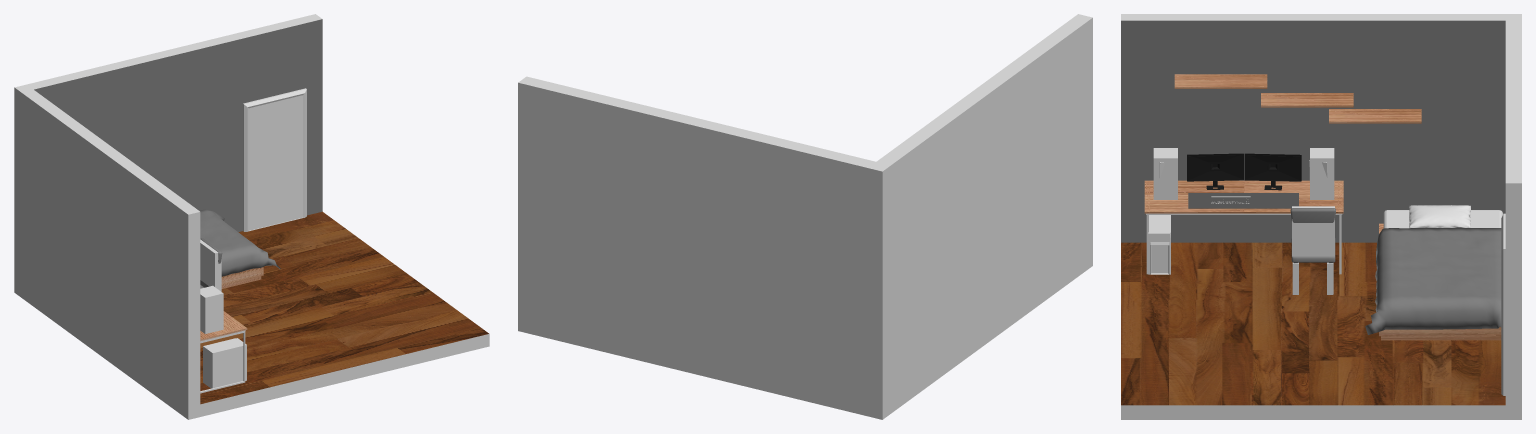
File: bedroom.glb
The picture shows the model from 3 angles, left to right: view 1: azimuth 30°, elevation 25°; view 2: azimuth 150°, elevation 25°; view 3: azimuth 270°, elevation 25°; orthographic projection. The views are drawn at different scales.
Visible parts, largest first — view 1: Cube, wall1_pick, floor_pick, Cube.005, Plane.001_pick, Cube.004_coll.001, Cube.004_coll.002, Cube.004_pick, Cube.016_coll, Cube.001, Cube.006; view 2: Cube; view 3: wall2_pick, floor_pick, Cube, Plane.001_pick, Cube.004_pick, Cube.016_pick, Cube.008, Cube.007, Cube.009, Cube.016_coll, Cube.001, Cube.003 (+9 smaller).
Boxes of the visible parts, x1,y1,x2,y2 form: Cube: [14, 14, 489, 419]; wall1_pick: [34, 19, 322, 231]; floor_pick: [200, 211, 488, 404]; Cube.005: [243, 88, 306, 231]; Plane.001_pick: [199, 209, 280, 276]; Cube.004_coll.001: [204, 338, 246, 387]; Cube.004_coll.002: [200, 285, 223, 333]; Cube.004_pick: [200, 311, 247, 393]; Cube.016_coll: [200, 239, 221, 291]; Cube.001: [221, 267, 263, 288]; Cube.006: [203, 338, 235, 388]; Cube: [518, 14, 1092, 419]; wall2_pick: [1121, 20, 1505, 242]; floor_pick: [1121, 242, 1505, 405]; Cube: [1121, 14, 1521, 419]; Plane.001_pick: [1365, 228, 1501, 334]; Cube.004_pick: [1144, 180, 1244, 274]; Cube.016_pick: [1244, 180, 1343, 274]; Cube.008: [1188, 193, 1298, 208]; Cube.007: [1244, 153, 1301, 190]; Cube.009: [1187, 153, 1243, 189]; Cube.016_coll: [1292, 206, 1334, 256]; Cube.001: [1379, 223, 1501, 340]; Cube.003: [1409, 205, 1470, 228].
Bounding box in the file's own units: 8.66 × 5.64 × 8.66.
Materials: 14 (2 with a texture image).
